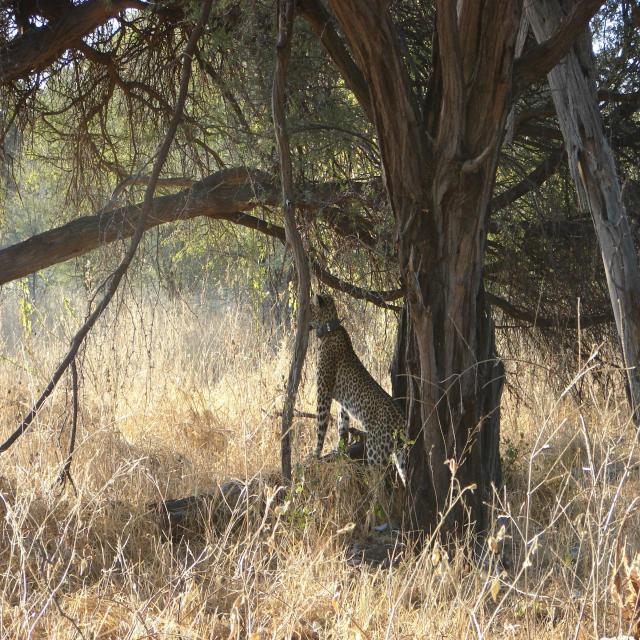Leopard: (290, 314, 414, 502)
